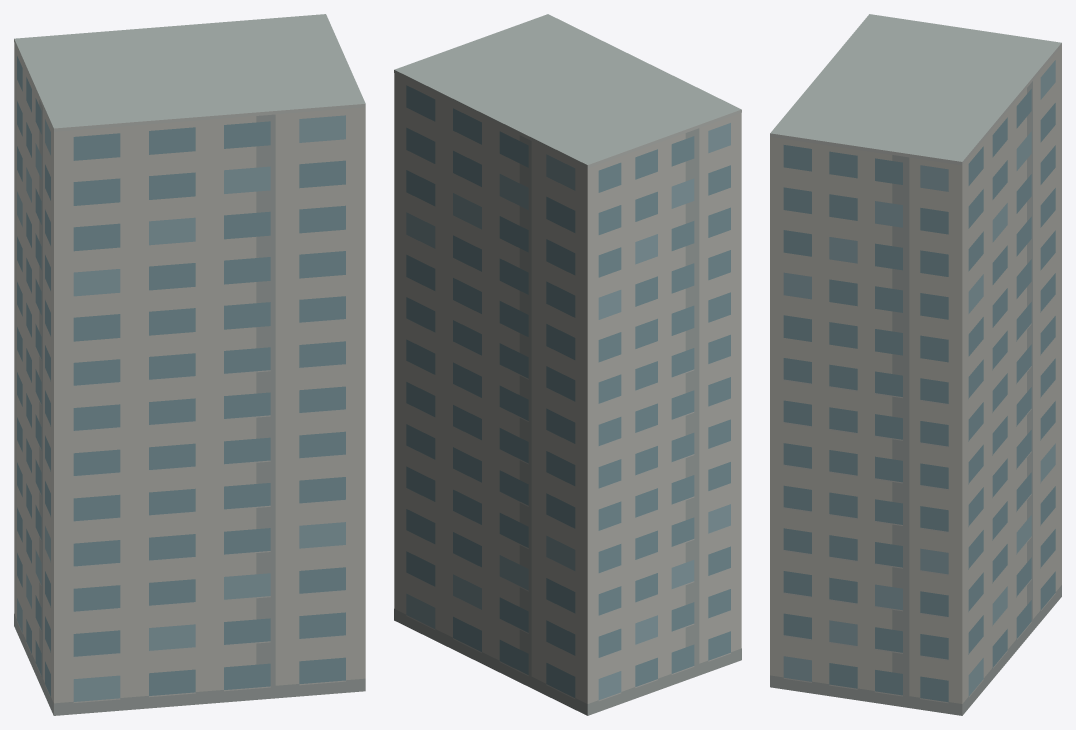
The model's file is residential-fd906fcf-27dc-4174-adb3-a15a07326f0e.glb.
3 renders of one model, left to right at view 1: azimuth 30°, elevation 25°; view 2: azimuth 150°, elevation 25°; view 3: azimuth 270°, elevation 25°, orthographic. The views are drawn at different scales.
Visible parts, largest first — view 1: residential-fd906fcf-27dc-4174-adb3-a15a07326f0e.tmp; view 2: residential-fd906fcf-27dc-4174-adb3-a15a07326f0e.tmp; view 3: residential-fd906fcf-27dc-4174-adb3-a15a07326f0e.tmp.
Part boxes in pixels (x1,y1,x2,y2): residential-fd906fcf-27dc-4174-adb3-a15a07326f0e.tmp: (14, 14, 365, 715); residential-fd906fcf-27dc-4174-adb3-a15a07326f0e.tmp: (394, 14, 741, 715); residential-fd906fcf-27dc-4174-adb3-a15a07326f0e.tmp: (770, 14, 1061, 715).
Size of the model in its own units: 22.92 by 40 by 19.1.
